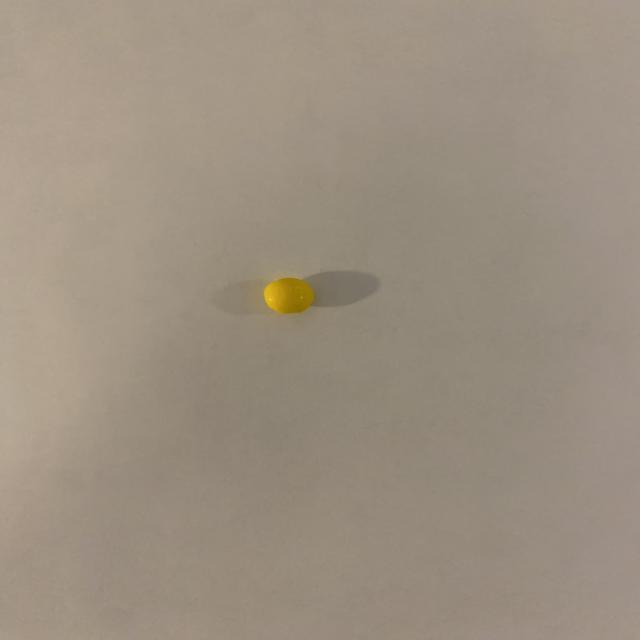smartie: (263, 278, 314, 314)
